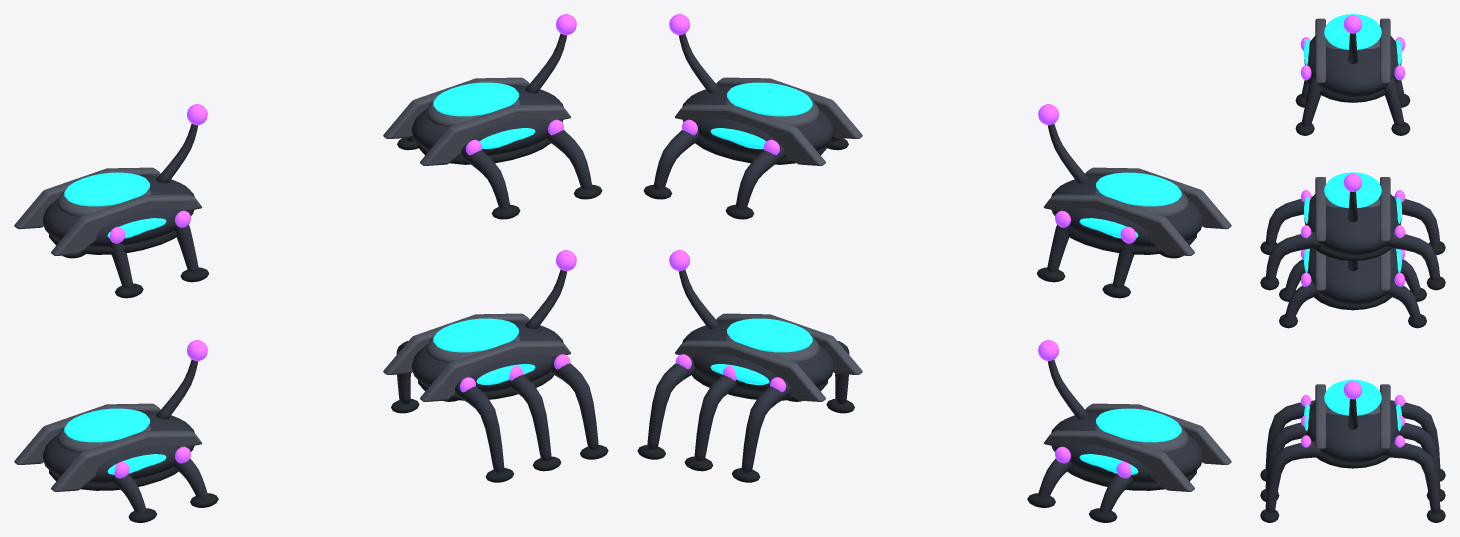
Rendered from canonical_implant_kit.glb.
3 views of the same model, side by side, from view 1: azimuth 30°, elevation 25°; view 2: azimuth 150°, elevation 25°; view 3: azimuth 270°, elevation 25° (orthographic). The views are drawn at different scales.
Visible parts, largest first — view 1: AlienControlDevice_amphibianGeometry, AlienControlDevice_mammalGeometry, AlienControlDevice_insectGeometry, AlienControlDevice_birdGeometry; view 2: AlienControlDevice_amphibianGeometry, AlienControlDevice_mammalGeometry, AlienControlDevice_insectGeometry, AlienControlDevice_birdGeometry; view 3: AlienControlDevice_amphibianGeometry, AlienControlDevice_mammalGeometry, AlienControlDevice_insectGeometry, AlienControlDevice_birdGeometry.
Boxes of the visible parts, x1,y1,x2,y2 form: AlienControlDevice_amphibianGeometry: (383,250,608,482); AlienControlDevice_mammalGeometry: (383,14,602,219); AlienControlDevice_insectGeometry: (14,104,208,298); AlienControlDevice_birdGeometry: (14,340,218,522); AlienControlDevice_amphibianGeometry: (637,250,862,482); AlienControlDevice_mammalGeometry: (643,14,862,219); AlienControlDevice_insectGeometry: (1037,104,1231,298); AlienControlDevice_birdGeometry: (1027,340,1231,522); AlienControlDevice_amphibianGeometry: (1260,379,1445,522); AlienControlDevice_mammalGeometry: (1260,172,1445,290); AlienControlDevice_insectGeometry: (1295,14,1410,135); AlienControlDevice_birdGeometry: (1279,248,1426,328).
Bounding box in the file's own units: 2.64 × 1.88 × 0.892.
